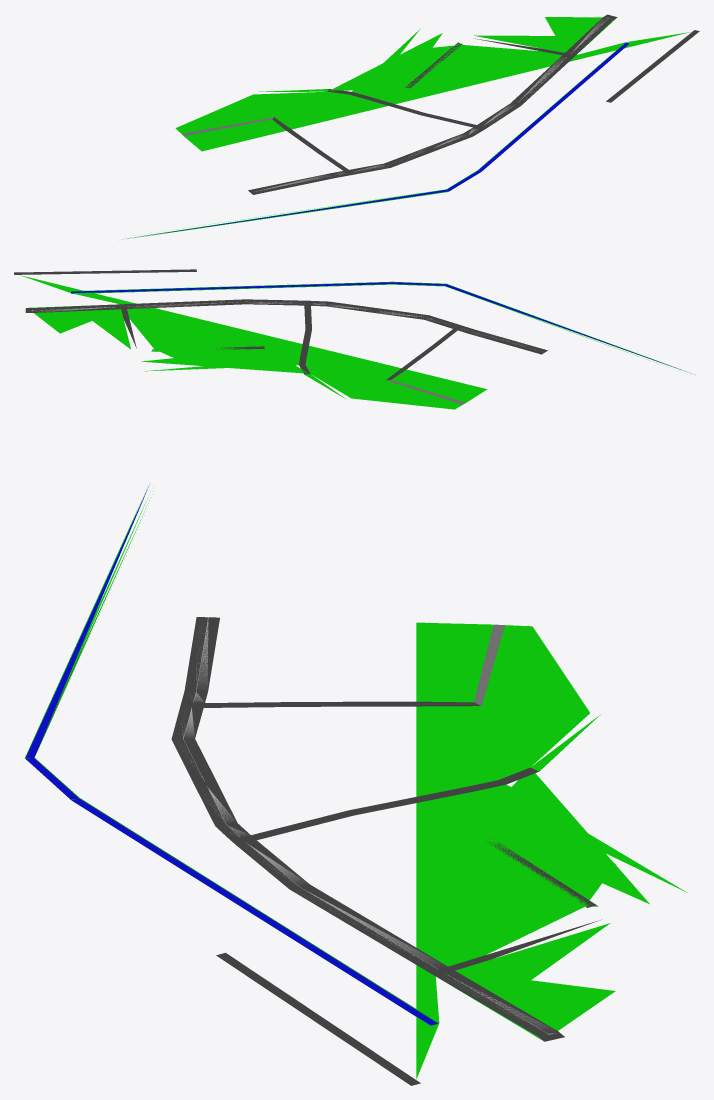
3 views of the same model, one above another, from view 1: azimuth 30°, elevation 25°; view 2: azimuth 150°, elevation 25°; view 3: azimuth 270°, elevation 25° (orthographic). The views are drawn at different scales.
Size of the model in its own units: 431 by 1 by 200.
